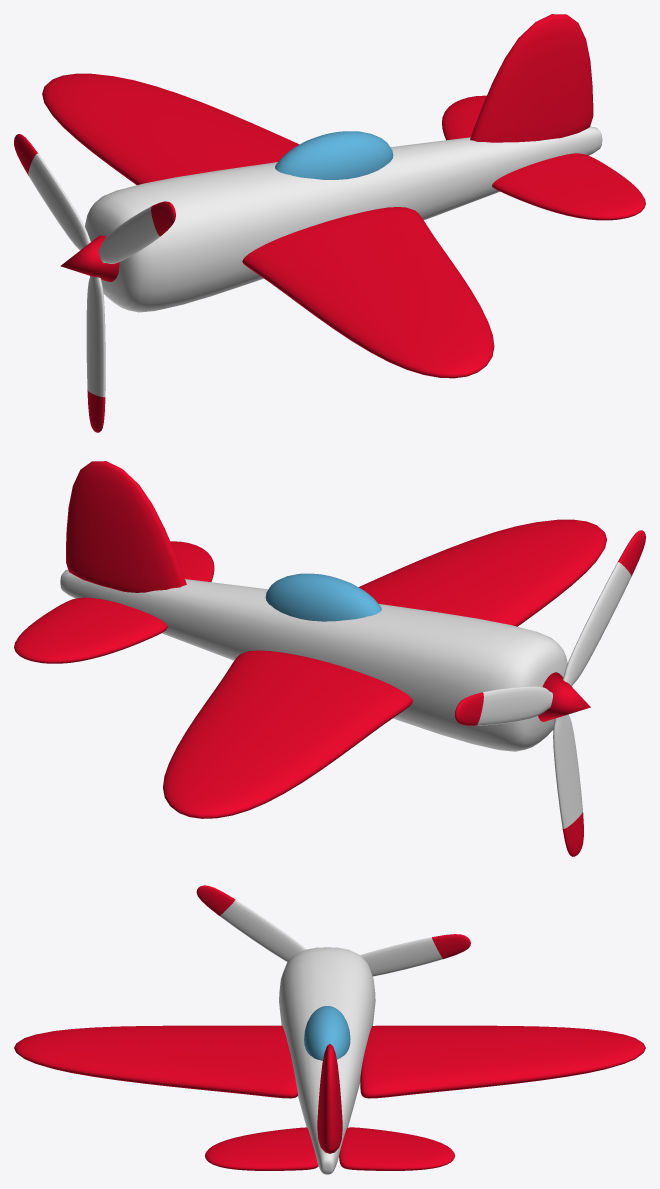
File: planeUV.glb
The picture shows the model from 3 angles, top to bottom: view 1: azimuth 30°, elevation 25°; view 2: azimuth 150°, elevation 25°; view 3: azimuth 270°, elevation 25°; orthographic projection. The views are drawn at different scales.
Parts seen in each view (by area): view 1: Cube.004, plane, Cube.006, Cube.005, Sphere, Cube.001, Cube, Cube.002, Cone; view 2: Cube.004, plane, Cube.006, Cube.005, Sphere, Cube.002, Cube.001, Cube, Cone; view 3: Cube.004, plane, Cube.005, Cube.002, Cube, Cube.006, Sphere.
Part boxes in pixels (x1,y1,x2,y2): Cube.004: (42, 73, 494, 378); plane: (85, 126, 602, 312); Cube.006: (470, 14, 593, 142); Cube.005: (442, 95, 645, 220); Sphere: (275, 131, 393, 179); Cube.001: (86, 276, 105, 432); Cube: (14, 134, 90, 250); Cube.002: (98, 201, 175, 263); Cone: (60, 235, 119, 281); Cube.004: (163, 519, 606, 818); plane: (60, 569, 567, 751); Cube.006: (66, 461, 186, 592); Cube.005: (14, 541, 214, 663); Sphere: (265, 573, 381, 621); Cube.002: (563, 530, 645, 686); Cube.001: (553, 714, 583, 856); Cube: (455, 686, 552, 725); Cone: (538, 672, 590, 721); Cube.004: (14, 1025, 645, 1098); plane: (279, 947, 375, 1174); Cube.005: (205, 1127, 454, 1170); Cube.002: (196, 885, 306, 961); Cube: (360, 934, 470, 976); Cube.006: (317, 1044, 342, 1153); Sphere: (304, 1006, 350, 1060).
Bounding box in the file's own units: 5.52 × 2.89 × 7.22.
